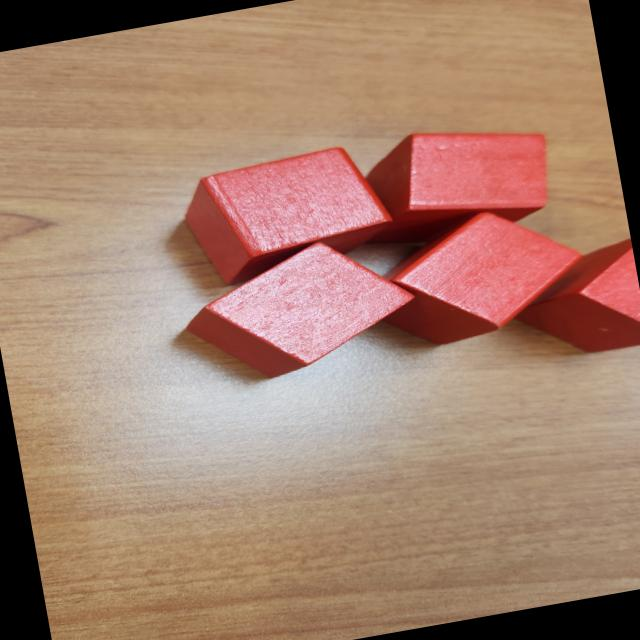red: (180, 228, 409, 394), (364, 195, 591, 354), (176, 141, 392, 292), (352, 110, 562, 249), (504, 235, 640, 366)
